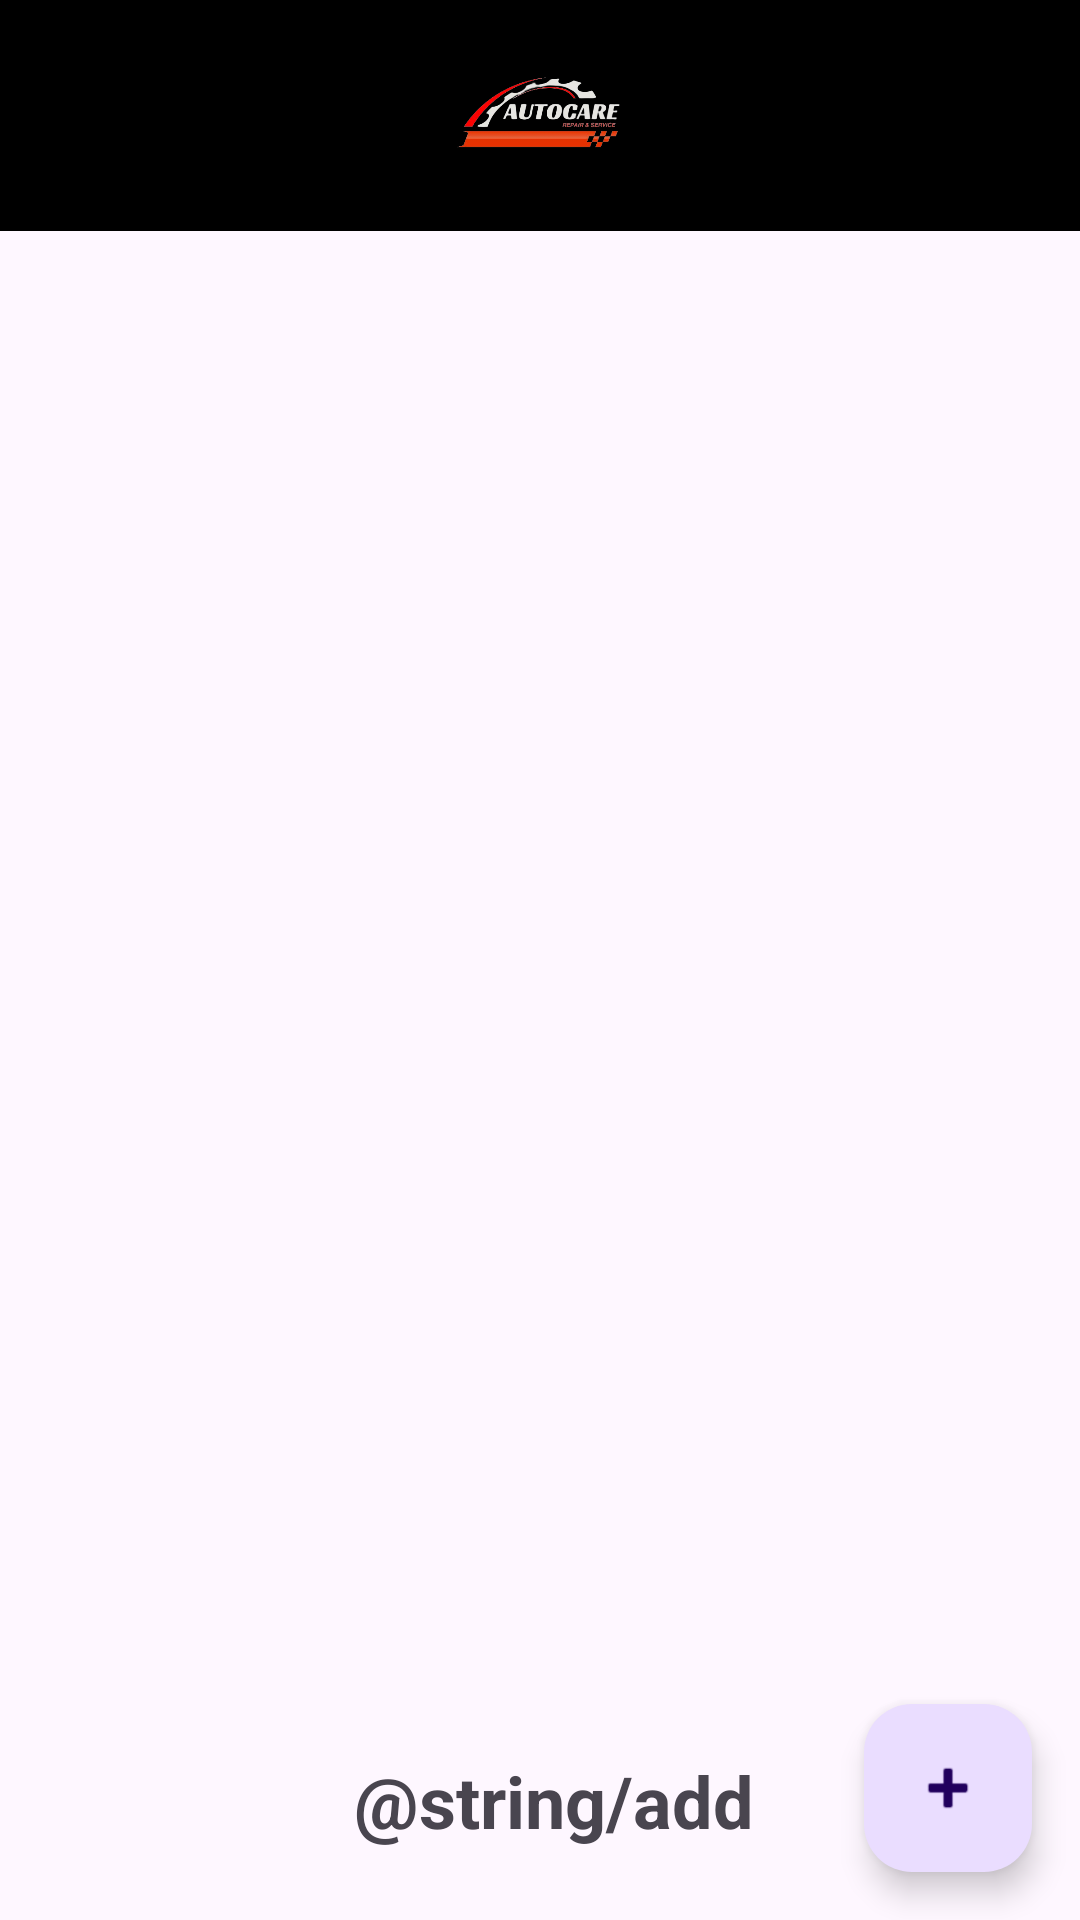

Icons on this 1080×1920 Android screen, each with its box as [left=x1, top=y1, right=x2, bottom=y2]:
Add Car: [left=864, top=1704, right=1032, bottom=1872]
